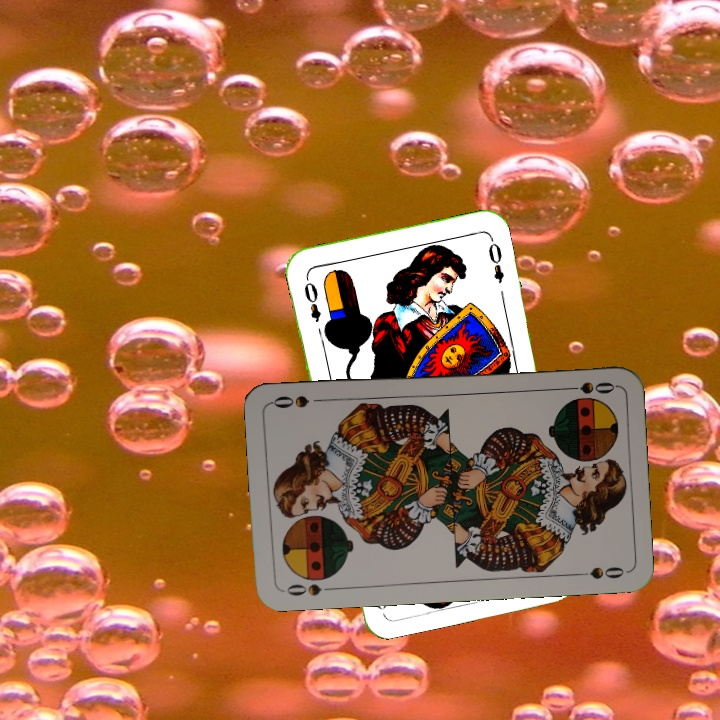EO: (300, 272, 324, 325)
SO: (558, 378, 617, 397), (279, 580, 338, 598)
